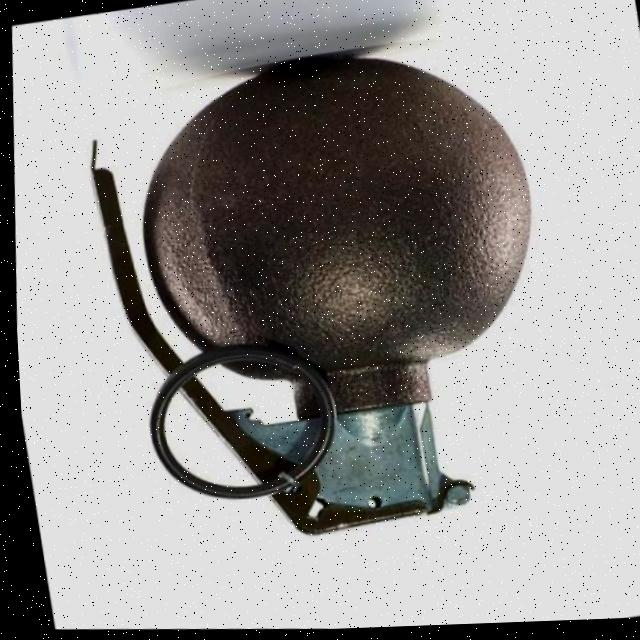grenade: (23, 14, 614, 584)
